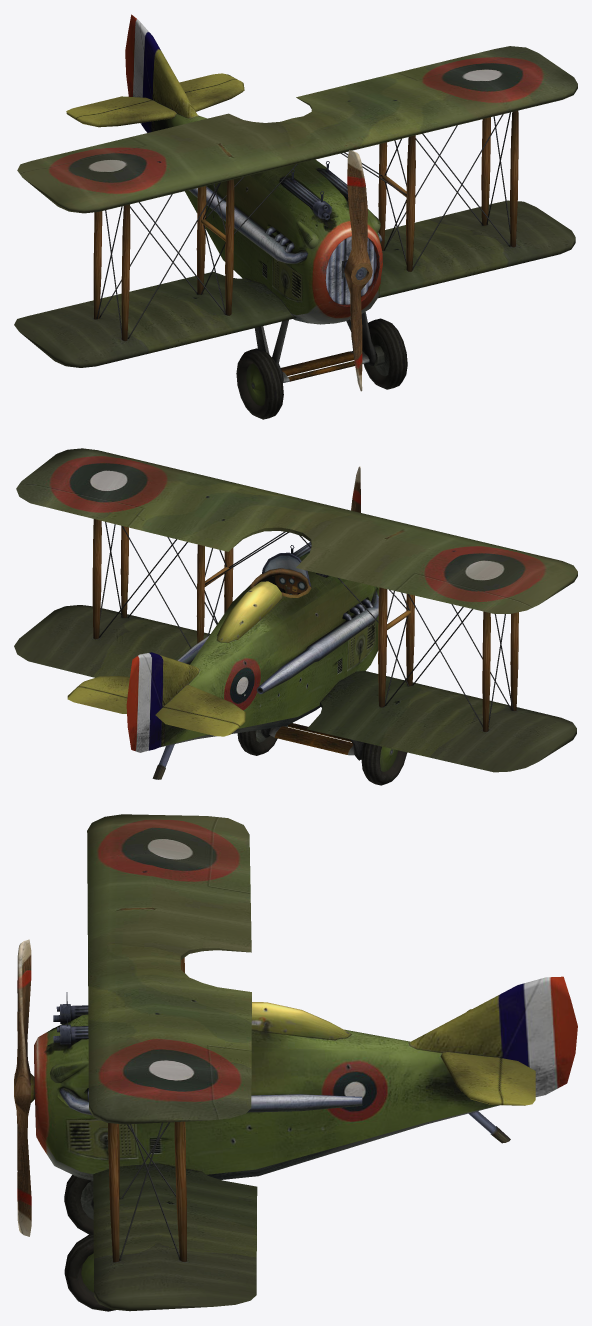
File: spad13.glb
3 renders of one model, top to bottom at view 1: azimuth 30°, elevation 25°; view 2: azimuth 150°, elevation 25°; view 3: azimuth 270°, elevation 25°, orthographic. The views are drawn at different scales.
Parts seen in each view (by area): view 1: spad13; view 2: spad13; view 3: spad13.
Boxes of the visible parts, x1,y1,x2,y2 form: spad13: (14,14,577,419); spad13: (14,448,577,785); spad13: (14,814,577,1311).
Bounding box in the file's own units: 1 × 0.5098 × 0.7872.
1 material, 1 textured.
